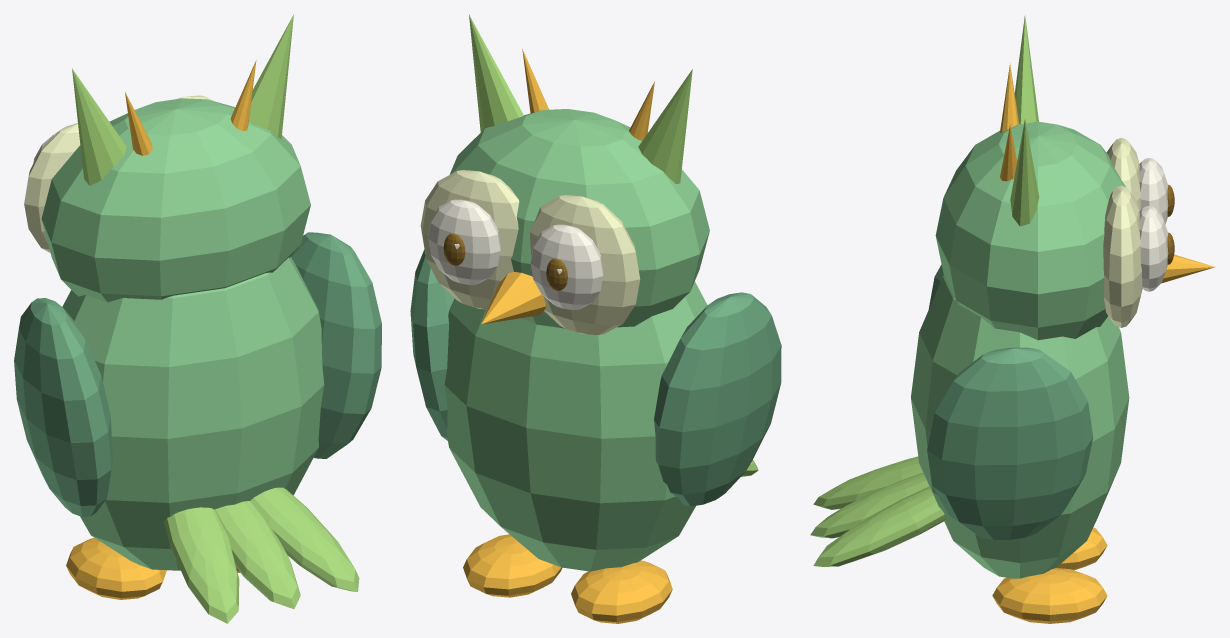
The model's file is Guardian_2.fbx.
3 views of the same model, side by side, from view 1: azimuth 30°, elevation 25°; view 2: azimuth 150°, elevation 25°; view 3: azimuth 270°, elevation 25° (orthographic). The views are drawn at different scales.
Parts seen in each view (by area): view 1: Body.003, Head.003, WingL.003, WingR.003, TailLeaf.003, TailLeaf.005, TailLeaf.004, Foot.006, EarLeaf.002, FaceMask.002, EarLeaf.003, GuardianCrest.003 (+1 smaller); view 2: Body.003, Head.003, WingL.003, FaceMask.002, FaceMask.003, WingR.003, Foot.006, EyeR.003, EyeL.003, Foot.007, EarLeaf.002, EarLeaf.003 (+5 smaller); view 3: Head.003, WingR.003, Body.003, Foot.007, FaceMask.003, TailLeaf.005, TailLeaf.004, TailLeaf.003, EyeR.003, EarLeaf.003, EarLeaf.002, EyeL.003 (+5 smaller).
Boxes of the visible parts, left/top/right/bottom form: Body.003: left=62, top=257, right=324, bottom=570; Head.003: left=41, top=98, right=310, bottom=302; WingL.003: left=14, top=298, right=113, bottom=516; WingR.003: left=291, top=232, right=381, bottom=458; TailLeaf.003: left=164, top=507, right=239, bottom=623; TailLeaf.005: left=250, top=487, right=359, bottom=591; TailLeaf.004: left=215, top=501, right=300, bottom=609; Foot.006: left=66, top=537, right=166, bottom=599; EarLeaf.002: left=72, top=68, right=126, bottom=185; FaceMask.002: left=24, top=123, right=80, bottom=252; EarLeaf.003: left=249, top=14, right=293, bottom=138; GuardianCrest.003: left=230, top=60, right=256, bottom=131; Body.003: left=444, top=281, right=707, bottom=571; Head.003: left=449, top=109, right=709, bottom=328; WingL.003: left=654, top=292, right=781, bottom=506; FaceMask.002: left=529, top=195, right=640, bottom=334; FaceMask.003: left=420, top=170, right=519, bottom=309; WingR.003: left=410, top=249, right=454, bottom=440; Foot.006: left=571, top=560, right=672, bottom=623; EyeR.003: left=428, top=199, right=500, bottom=284; EyeL.003: left=530, top=224, right=603, bottom=309; Foot.007: left=463, top=534, right=562, bottom=597; EarLeaf.002: left=638, top=69, right=692, bottom=183; EarLeaf.003: left=469, top=14, right=523, bottom=132; Head.003: left=935, top=121, right=1125, bottom=340; WingR.003: left=927, top=347, right=1093, bottom=539; Body.003: left=911, top=275, right=1129, bottom=578; Foot.007: left=992, top=568, right=1107, bottom=623; FaceMask.003: left=1103, top=185, right=1142, bottom=327; TailLeaf.005: left=813, top=486, right=945, bottom=566; TailLeaf.004: left=810, top=472, right=928, bottom=538; TailLeaf.003: left=813, top=456, right=922, bottom=509; EyeR.003: left=1139, top=205, right=1168, bottom=291; EarLeaf.003: left=1010, top=119, right=1039, bottom=226; EarLeaf.002: left=1014, top=15, right=1038, bottom=124; EyeL.003: left=1139, top=158, right=1168, bottom=224.
Bounding box in the file's own units: 743 × 1166 × 817.
